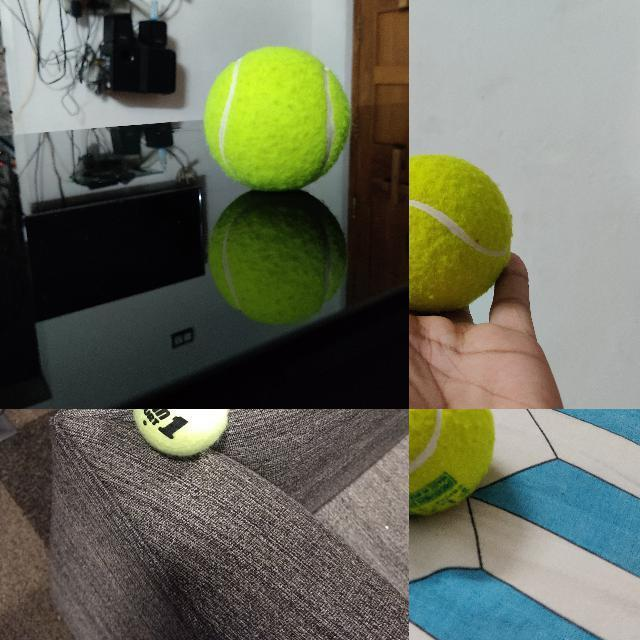tennis-ball: (203, 45, 351, 191), (409, 154, 513, 313), (409, 409, 495, 515), (131, 409, 230, 457)
